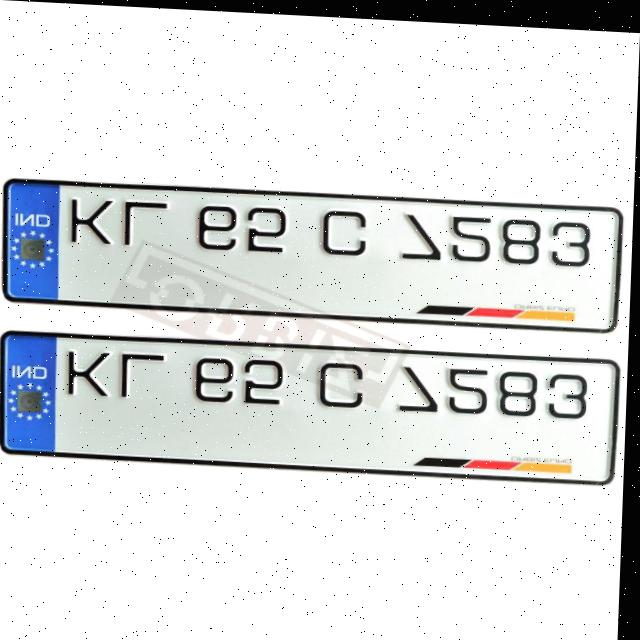plate: (0, 327, 623, 480), (7, 176, 623, 327)
